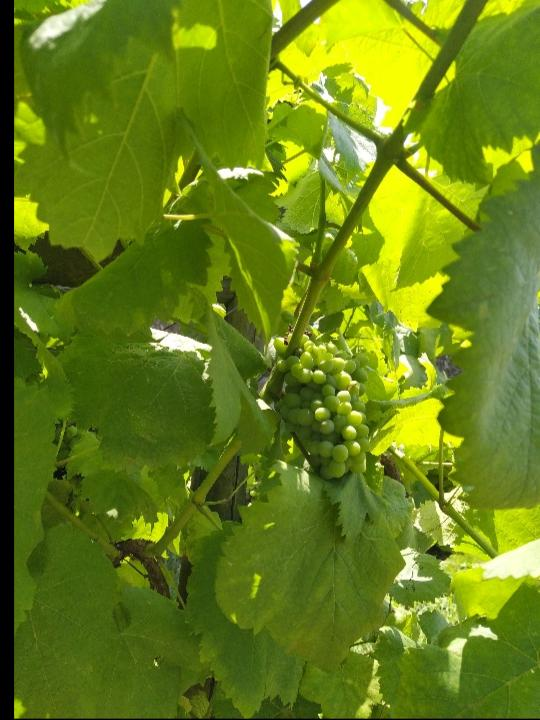grape: (271, 328, 373, 481)
